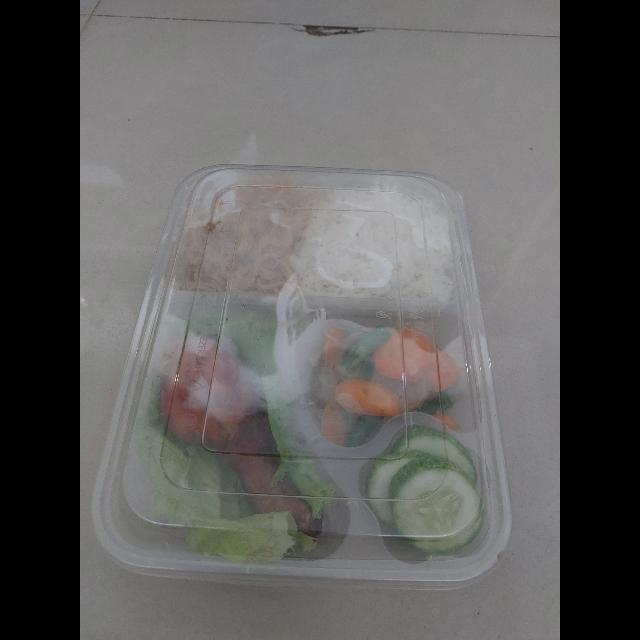bento: (89, 158, 516, 591)
